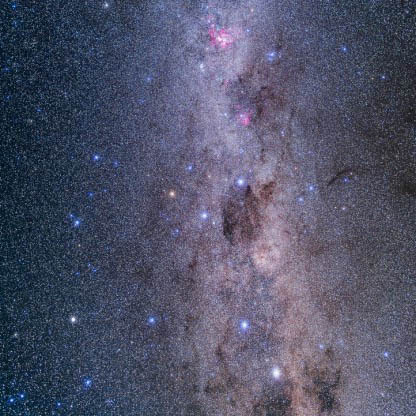Southern Cross: (196, 203, 214, 221), (230, 172, 248, 190), (184, 161, 197, 179), (164, 184, 177, 199)
